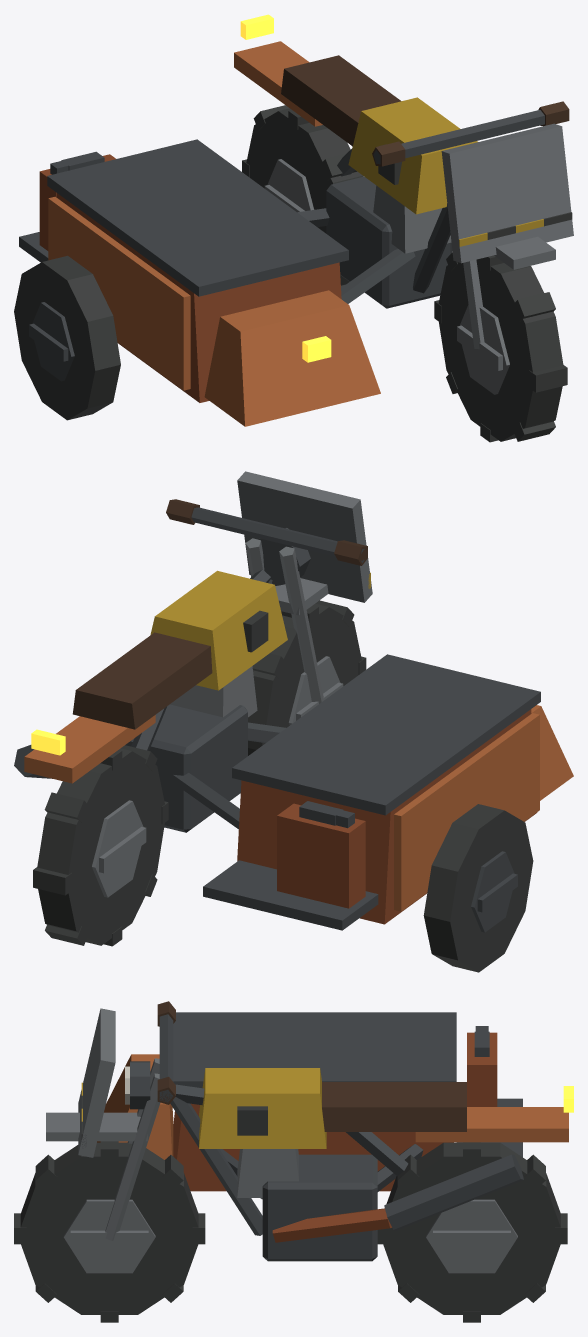
The model's file is vehicle_motorbike_l2.glb.
3 renders of one model, top to bottom at view 1: azimuth 30°, elevation 25°; view 2: azimuth 150°, elevation 25°; view 3: azimuth 270°, elevation 25°, orthographic. The views are drawn at different scales.
Visible parts, largest first — view 1: body, wheel_f, wheel_s, wheel_r; view 2: body, wheel_r, wheel_s, wheel_f; view 3: body, wheel_f, wheel_r.
Part boxes in pixels (bbox=[...]): body: bbox=[19, 14, 573, 426]; wheel_f: bbox=[434, 252, 567, 442]; wheel_s: bbox=[14, 255, 120, 420]; wheel_r: bbox=[242, 105, 363, 287]; body: bbox=[14, 471, 573, 930]; wheel_r: bbox=[33, 745, 168, 946]; wheel_s: bbox=[423, 804, 533, 972]; wheel_f: bbox=[248, 600, 366, 755]; body: bbox=[46, 1001, 573, 1261]; wheel_f: bbox=[14, 1141, 205, 1322]; wheel_r: bbox=[377, 1142, 567, 1322].
Size of the model in its own units: 1.79 by 1.22 by 2.19.
